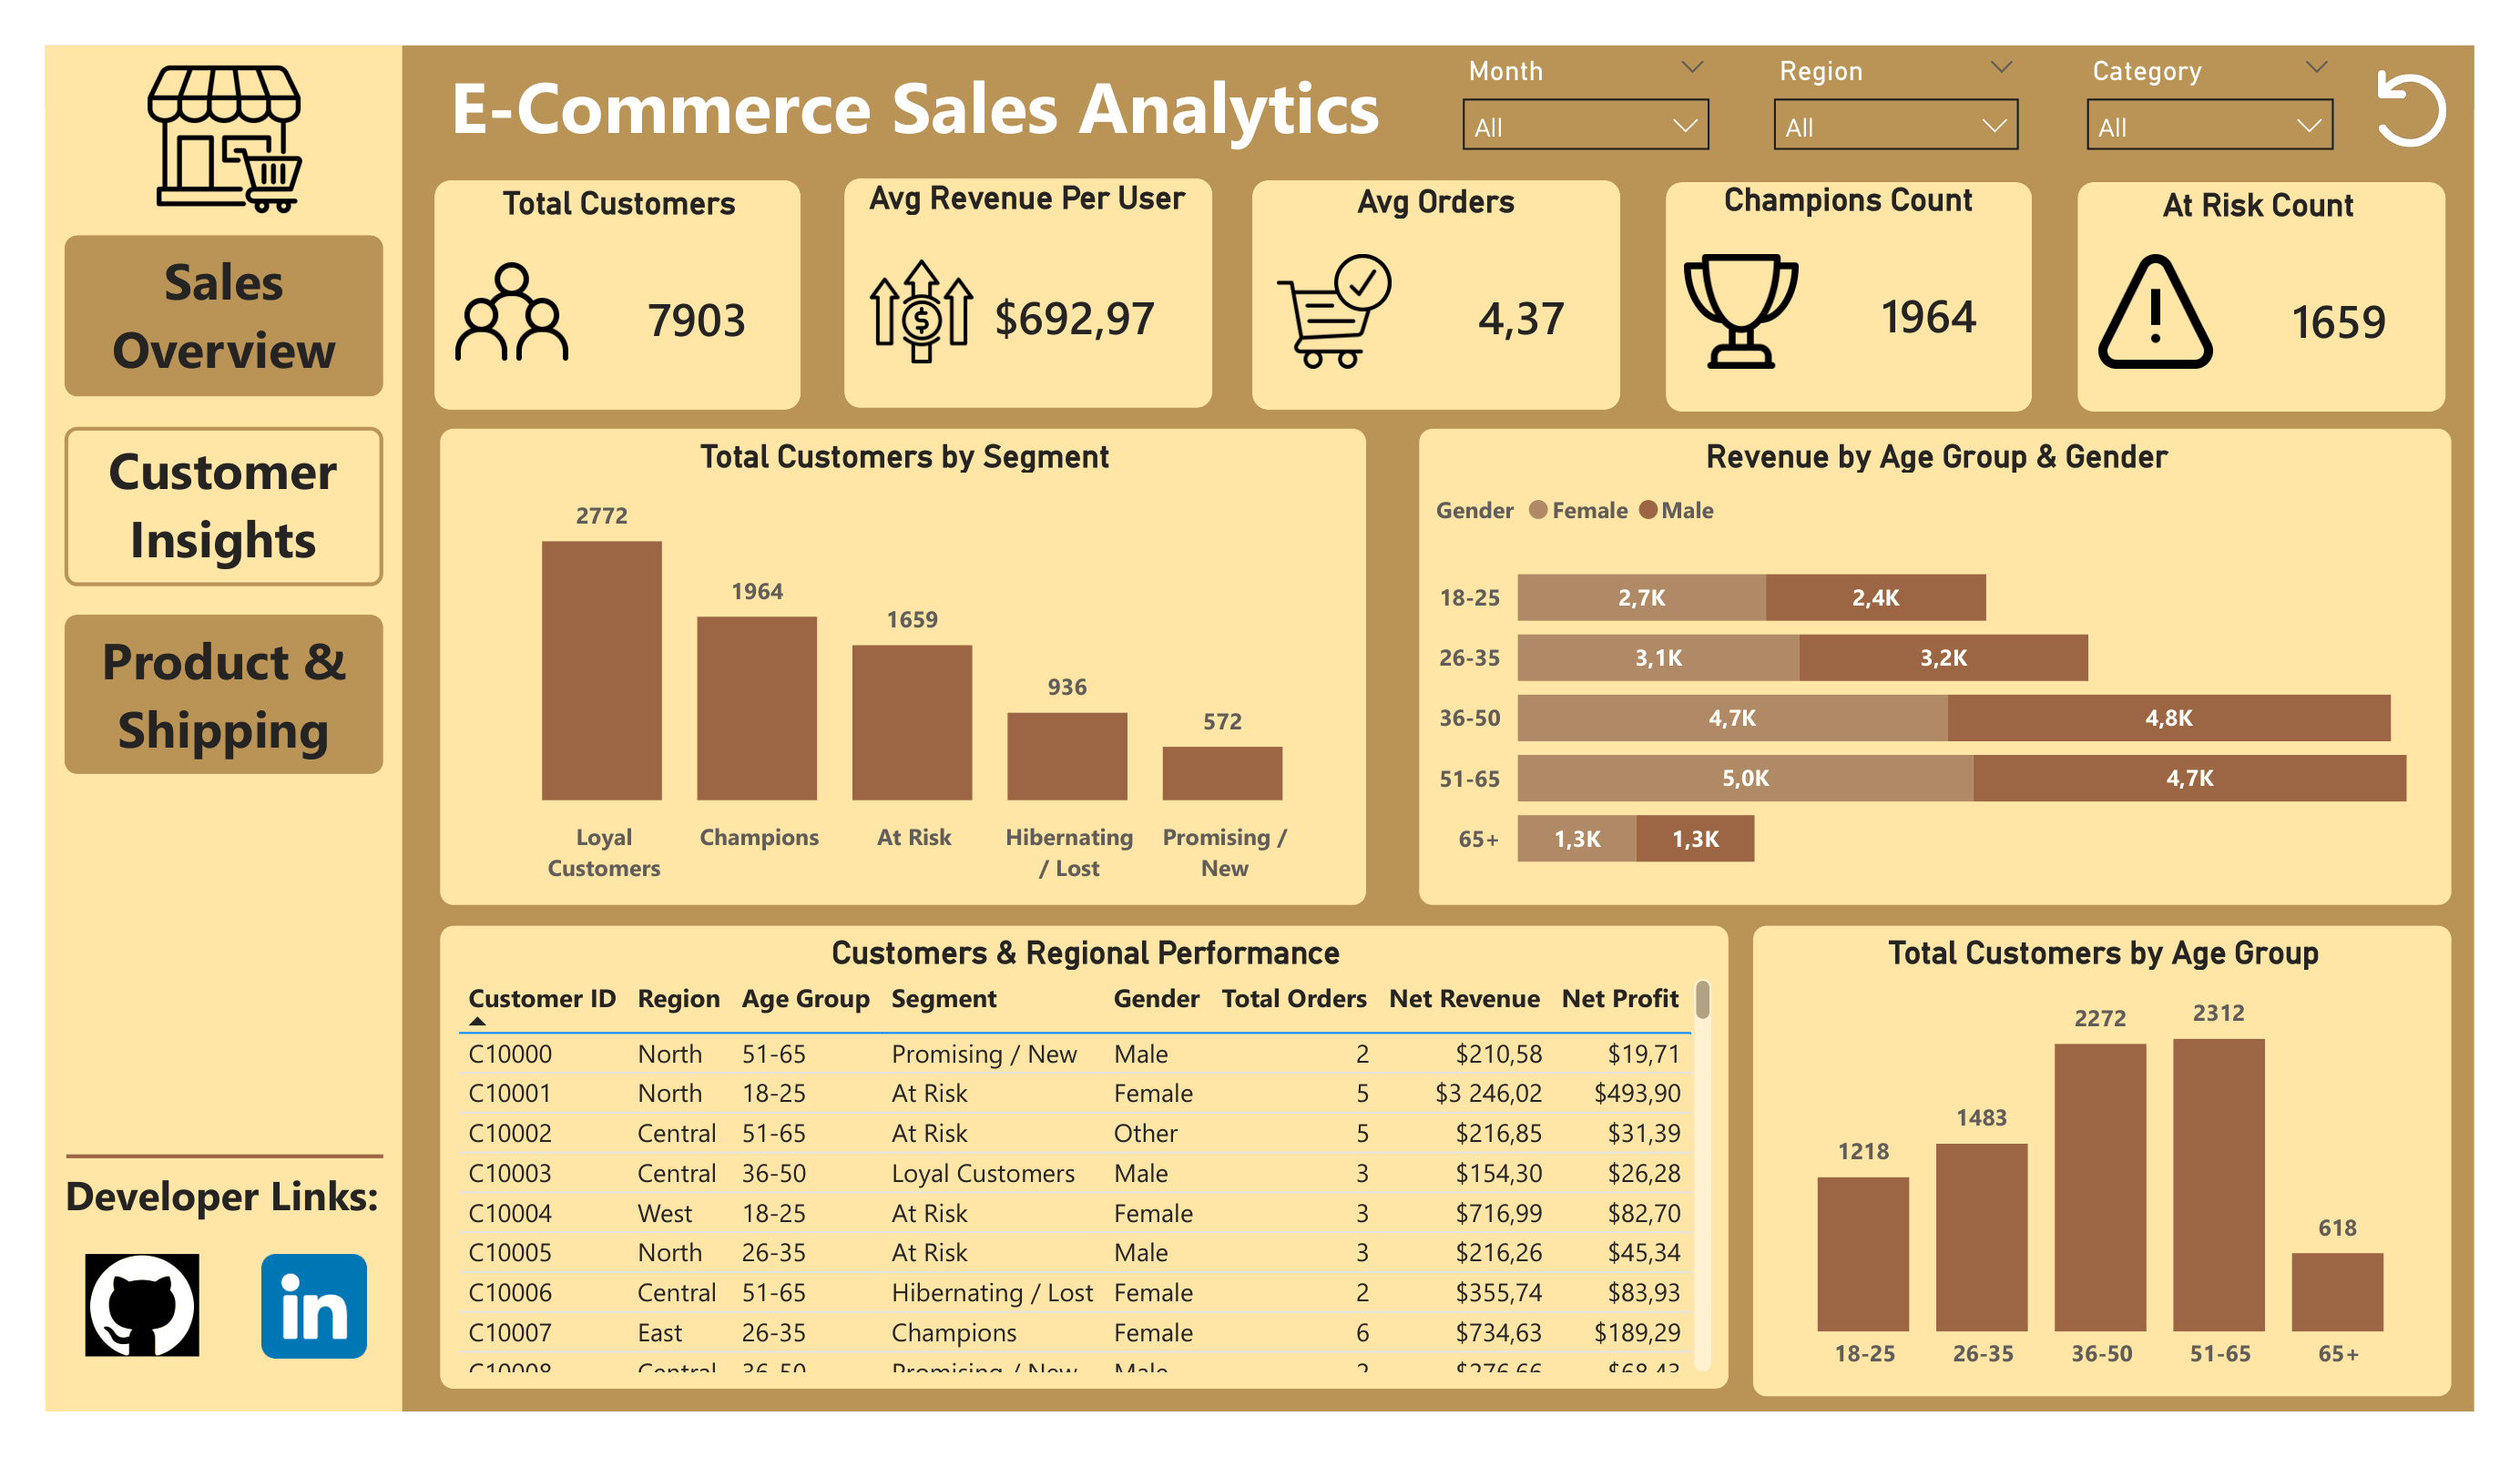

Layout of this report page (visuals, bound fields, positions):
{"tool":"powerbi","page":{"name":"Customer Insights","canvas":[1280,720],"ordinal":1},"visuals":[{"type":"tableEx","title":"Customers & Regional Performance","fields":{"Values":["dim_customer.customer_id","dim_customer.region","dim_customer.age_group","dim_customer.customer_segment","dim_customer.customer_gender","_Measures.Total Orders","_Measures.Net Revenue","_Measures.Net Profit"]},"box":[207.8,464.1,679.2,243.6],"z":0},{"type":"clusteredColumnChart","title":"Total Customers by Segment","fields":{"Category":["dim_customer.customer_segment"],"Y":["_Measures.Total Customers"]},"box":[207.8,201.8,488.2,251.3],"z":1000},{"type":"barChart","title":"Revenue by Age Group & Gender","fields":{"Category":["dim_customer.age_group"],"Y":["CountNonNull(fact_sales.customer_id)"],"Series":["dim_customer.customer_gender"]},"box":[723.8,201.8,543.7,251.3],"z":2000},{"type":"shape","box":[0,0,188,720],"z":3000},{"type":"image","box":[47.5,9.5,93.9,80.2],"z":4000},{"type":"shape","box":[10,100,168,84.6],"z":5000},{"type":"shape","box":[10,200.7,167.7,84],"z":6000},{"type":"shape","box":[10.2,300,167.7,84.4],"z":7000},{"type":"textbox","box":[9.7,100.3,168,84.6],"z":8000},{"type":"textbox","box":[9.5,200.4,168.8,84.4],"z":9000},{"type":"textbox","box":[9.7,299.7,168,84.6],"z":10000},{"type":"shape","box":[205,71.3,193.3,120.8],"z":11000},{"type":"cardVisual","title":"Total Customers","fields":{"Data":["_Measures.Total Customers"]},"box":[205.7,72.8,193,119.2],"z":12000},{"type":"image","box":[213.5,110,64,60.4],"z":13000},{"type":"shape","box":[421.3,70.1,193.3,120.8],"z":14000},{"type":"cardVisual","title":"Avg Revenue Per User","fields":{"Data":["_Measures.ARPU"]},"box":[420.8,69.6,193,124.5],"z":15000},{"type":"image","box":[429.8,110,64,60.4],"z":16000},{"type":"shape","box":[636.4,71.3,193.3,120.8],"z":17000},{"type":"cardVisual","title":"Avg Orders ","fields":{"Data":["_Measures.Avg Orders Per Customer"]},"box":[636,71.7,194.1,120.2],"z":18000},{"type":"image","box":[647.3,110,64,60.4],"z":19000},{"type":"shape","box":[853.9,72.5,193.3,120.8],"z":20000},{"type":"cardVisual","title":"Champions Count","fields":{"Data":["_Measures.Champions Count"]},"box":[853.9,71.3,193.3,119.6],"z":21000},{"type":"image","box":[862.3,110,64,60.4],"z":22000},{"type":"shape","box":[1071.4,72.5,193.3,120.8],"z":23000},{"type":"cardVisual","title":"At Risk Count","fields":{"Data":["_Measures.At Risk Count"]},"box":[1070.2,73.7,193.3,119.6],"z":24000},{"type":"image","box":[1079.8,110,64,60.4],"z":25000},{"type":"image","box":[20.8,636.8,60.4,54.4],"z":26000},{"type":"image","box":[110.7,637,61.2,54.8],"z":27000},{"type":"slicer","fields":{"Values":["dim_date.month_name"]},"box":[737.2,0,149.8,69.6],"z":28000},{"type":"slicer","fields":{"Values":["dim_customer.region"]},"box":[900.7,0,149.8,69.6],"z":29000},{"type":"slicer","fields":{"Values":["dim_product.category"]},"box":[1066.3,0,149.8,69.6],"z":30000},{"type":"image","box":[1216.1,9.5,60.1,50.6],"z":31000},{"type":"shape","box":[10.5,100.2,167.7,84.4],"z":32000},{"type":"shape","box":[10.5,200.4,167.7,84.4],"z":33000},{"type":"shape","box":[10.5,299.5,167.7,84.4],"z":34000},{"type":"clusteredColumnChart","title":"Total Customers by Age Group","fields":{"Category":["dim_customer.age_group"],"Y":["_Measures.Total Customers"]},"box":[900.2,464,367.3,247.7],"z":35000},{"type":"textbox","box":[207.8,1.2,529.2,64],"z":36000},{"type":"textbox","box":[4.8,586,177.6,43.5],"z":37000},{"type":"shape","box":[10.9,496.6,166.7,177.6],"z":38000}]}

Visuals, with their boxes on the page's 1280x720 design canvas (x1, y1, x2, y2). These are canvas units, not pixel positions in the 2520x1457 screenshot, which may show the page scaled, cropped or inside an application window:
"Customers & Regional Performance" tableEx: bbox(208, 464, 887, 708)
"Total Customers by Segment" clusteredColumnChart: bbox(208, 202, 696, 453)
"Revenue by Age Group & Gender" barChart: bbox(724, 202, 1268, 453)
shape: bbox(0, 0, 188, 720)
image: bbox(48, 10, 141, 90)
shape: bbox(10, 100, 178, 185)
shape: bbox(10, 201, 178, 285)
shape: bbox(10, 300, 178, 384)
textbox: bbox(10, 100, 178, 185)
textbox: bbox(10, 200, 178, 285)
textbox: bbox(10, 300, 178, 384)
shape: bbox(205, 71, 398, 192)
"Total Customers" cardVisual: bbox(206, 73, 399, 192)
image: bbox(214, 110, 278, 170)
shape: bbox(421, 70, 615, 191)
"Avg Revenue Per User" cardVisual: bbox(421, 70, 614, 194)
image: bbox(430, 110, 494, 170)
shape: bbox(636, 71, 830, 192)
"Avg Orders " cardVisual: bbox(636, 72, 830, 192)
image: bbox(647, 110, 711, 170)
shape: bbox(854, 72, 1047, 193)
"Champions Count" cardVisual: bbox(854, 71, 1047, 191)
image: bbox(862, 110, 926, 170)
shape: bbox(1071, 72, 1265, 193)
"At Risk Count" cardVisual: bbox(1070, 74, 1264, 193)
image: bbox(1080, 110, 1144, 170)
image: bbox(21, 637, 81, 691)
image: bbox(111, 637, 172, 692)
slicer - dim_date.month_name: bbox(737, 0, 887, 70)
slicer - dim_customer.region: bbox(901, 0, 1050, 70)
slicer - dim_product.category: bbox(1066, 0, 1216, 70)
image: bbox(1216, 10, 1276, 60)
shape: bbox(10, 100, 178, 185)
shape: bbox(10, 200, 178, 285)
shape: bbox(10, 300, 178, 384)
"Total Customers by Age Group" clusteredColumnChart: bbox(900, 464, 1268, 712)
textbox: bbox(208, 1, 737, 65)
textbox: bbox(5, 586, 182, 630)
shape: bbox(11, 497, 178, 674)
